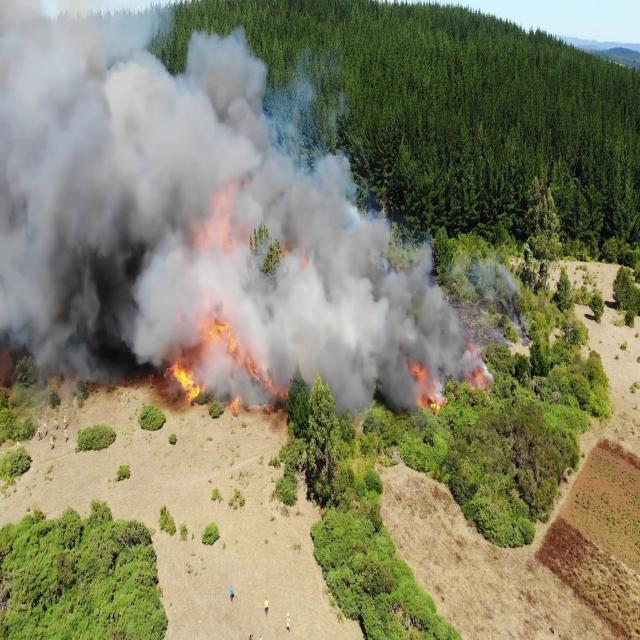Fire: (168, 353, 204, 406)
Smoke: (0, 1, 267, 389), (248, 120, 472, 413)
